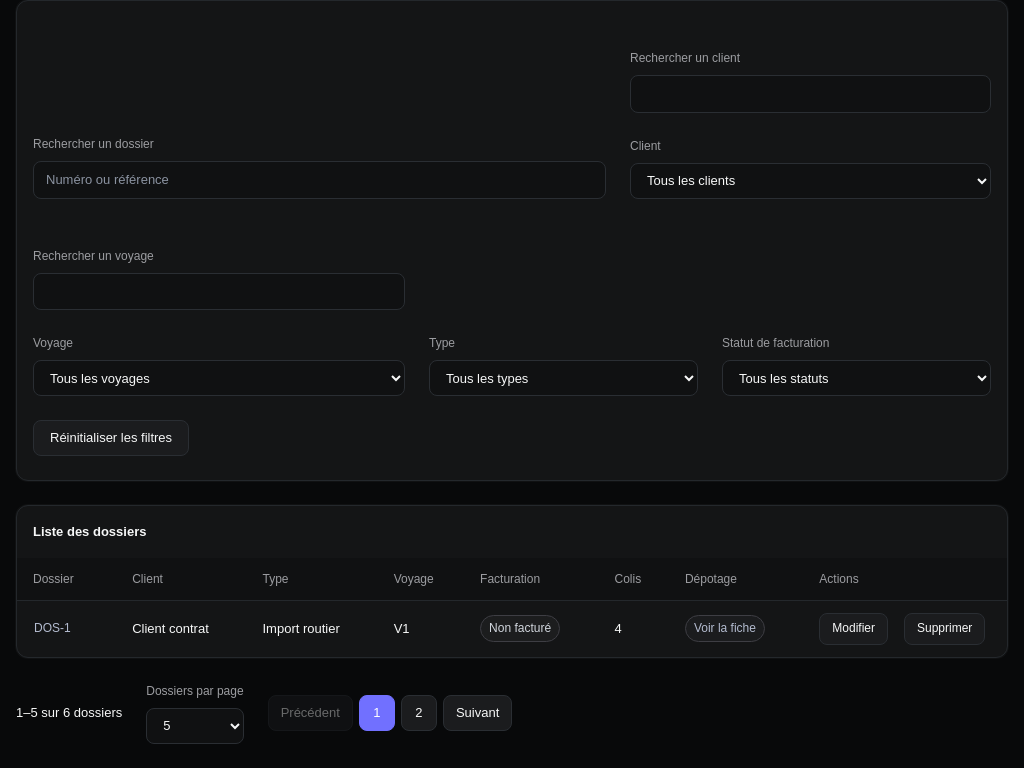
it: Dossiers API presentation › shows server totals and next page without double slicing
The image size is (1024, 768).
(page scrolled)
Expected: the text "1–5 sur 6 dossiers" is shown, [16, 703, 122, 722]
Expected: the text "Voir la fiche" is shown, [685, 615, 765, 642]
Click the button "Suivant" at (478, 713), box [443, 695, 512, 731]
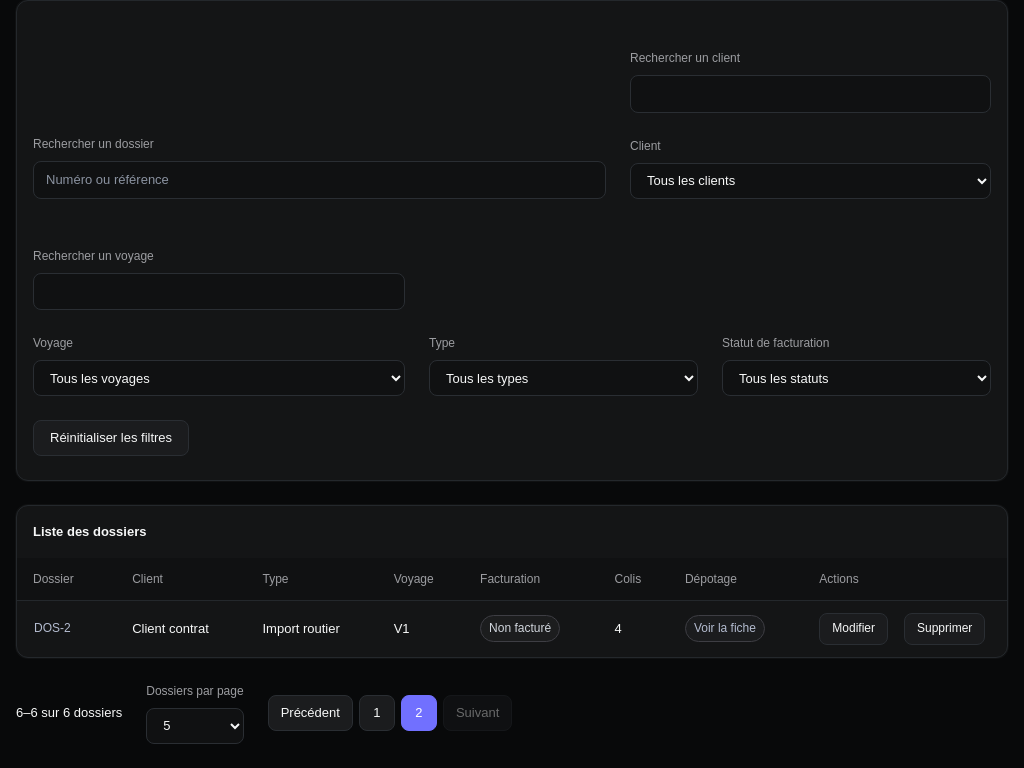
Expected: the button "DOS-2" is shown, [33, 613, 84, 645]
Expected: the text "6–6 sur 6 dossiers" is shown, [16, 703, 122, 722]
